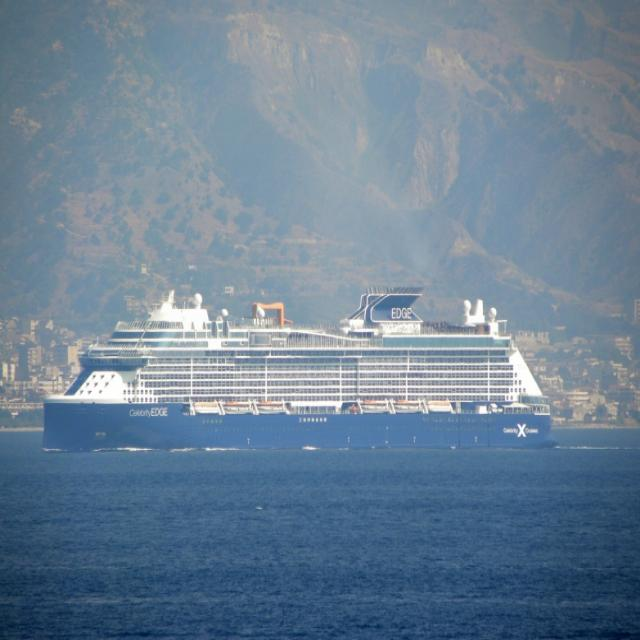cruises: (46, 277, 567, 457)
